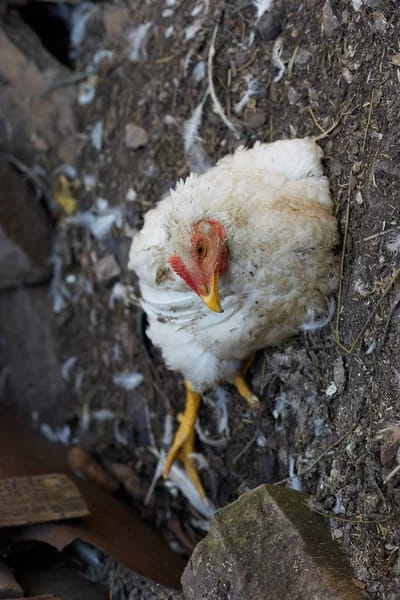Unhealthy: (104, 124, 358, 484)
